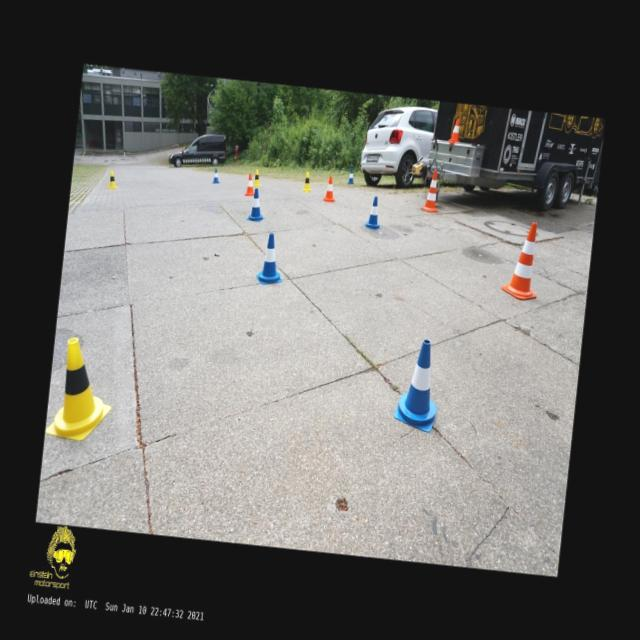blue_cone: (392, 336, 444, 434), (256, 232, 286, 286), (247, 188, 266, 222), (365, 196, 382, 228), (346, 168, 354, 184), (212, 168, 220, 183)
large_orange_cone: (501, 220, 544, 301), (420, 168, 442, 212)
orange_cone: (322, 176, 337, 202), (448, 118, 461, 142), (244, 173, 256, 196)
yellow_cone: (44, 336, 117, 444), (302, 171, 312, 191), (108, 170, 118, 188), (252, 169, 262, 187)
